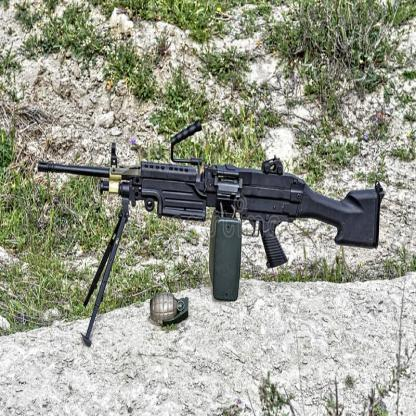Grenade: (150, 291, 190, 328)
Gun: (37, 120, 384, 347)
